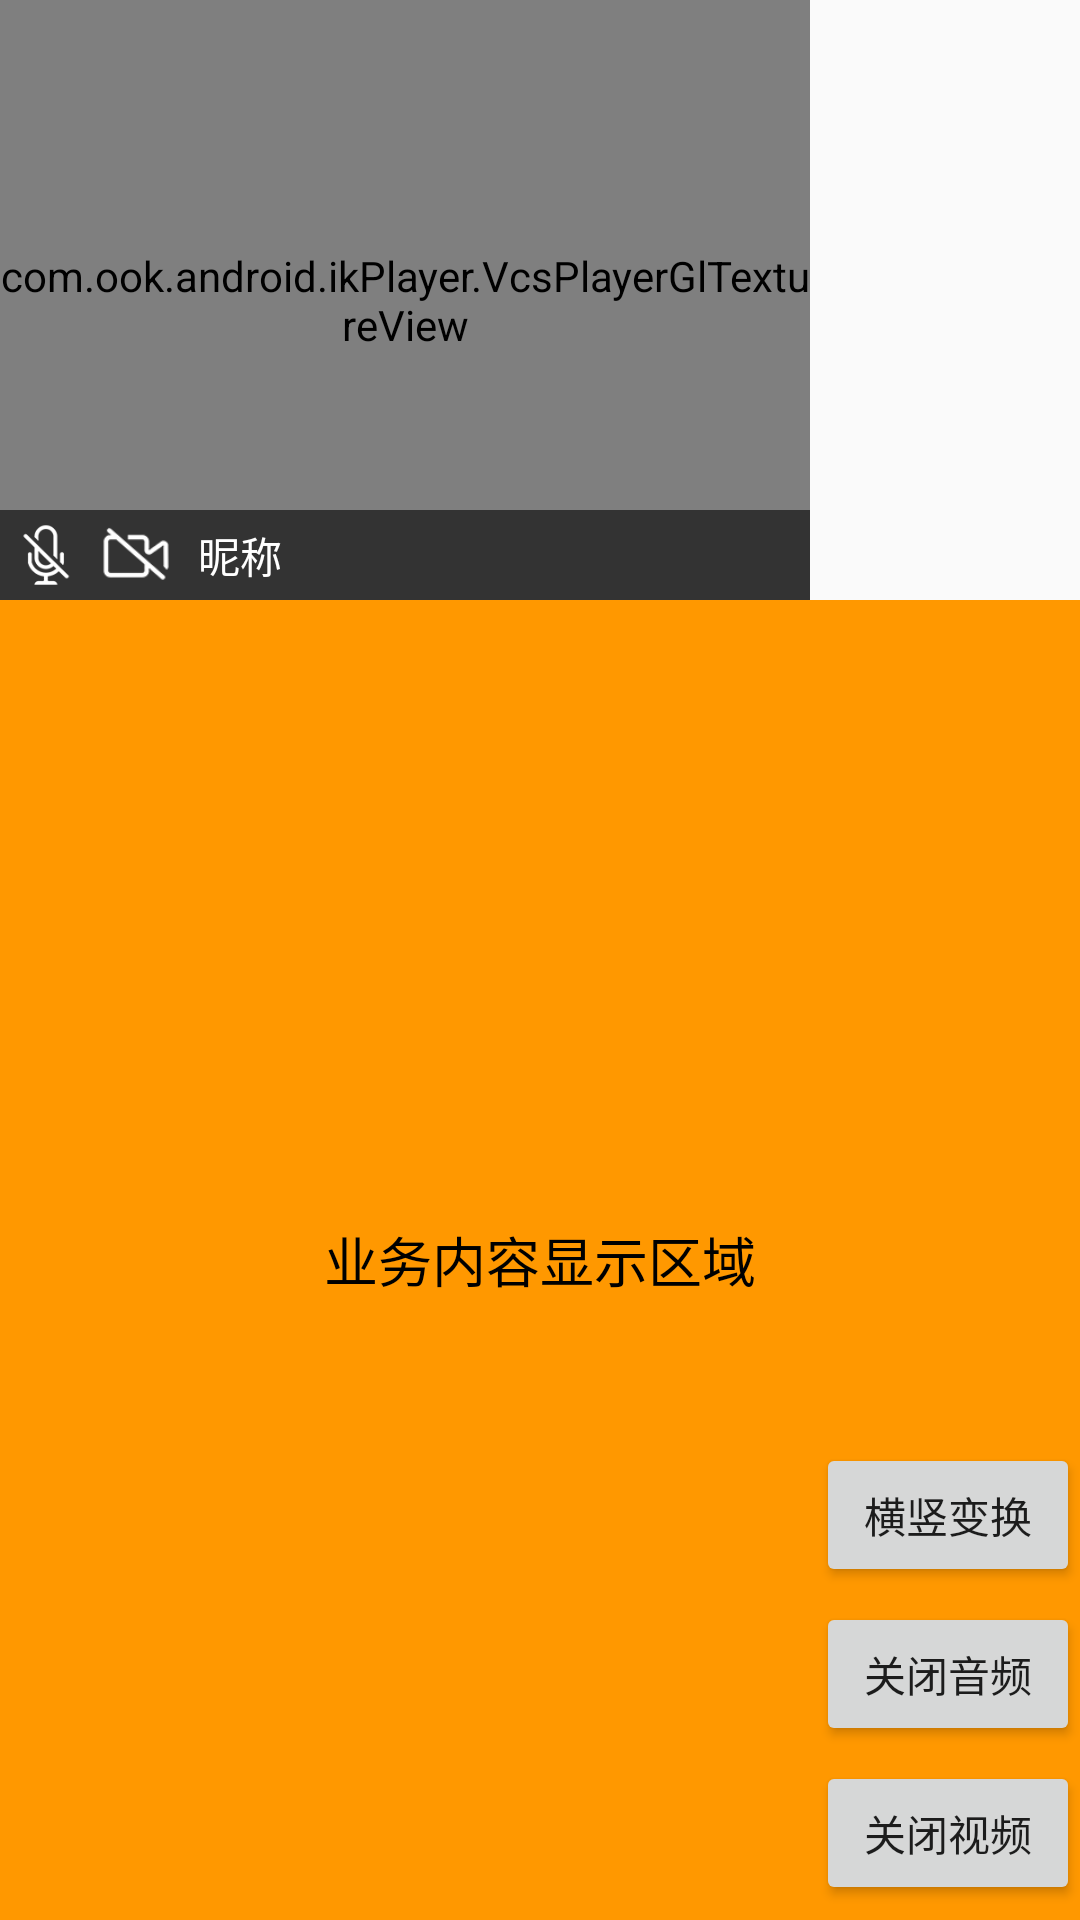

Icons on this 1080*1920 Android screen, each with its box as (x1, y1, x2, y2):
slc conf mic: (23, 525, 69, 585)
slc conf video: (103, 528, 169, 580)
